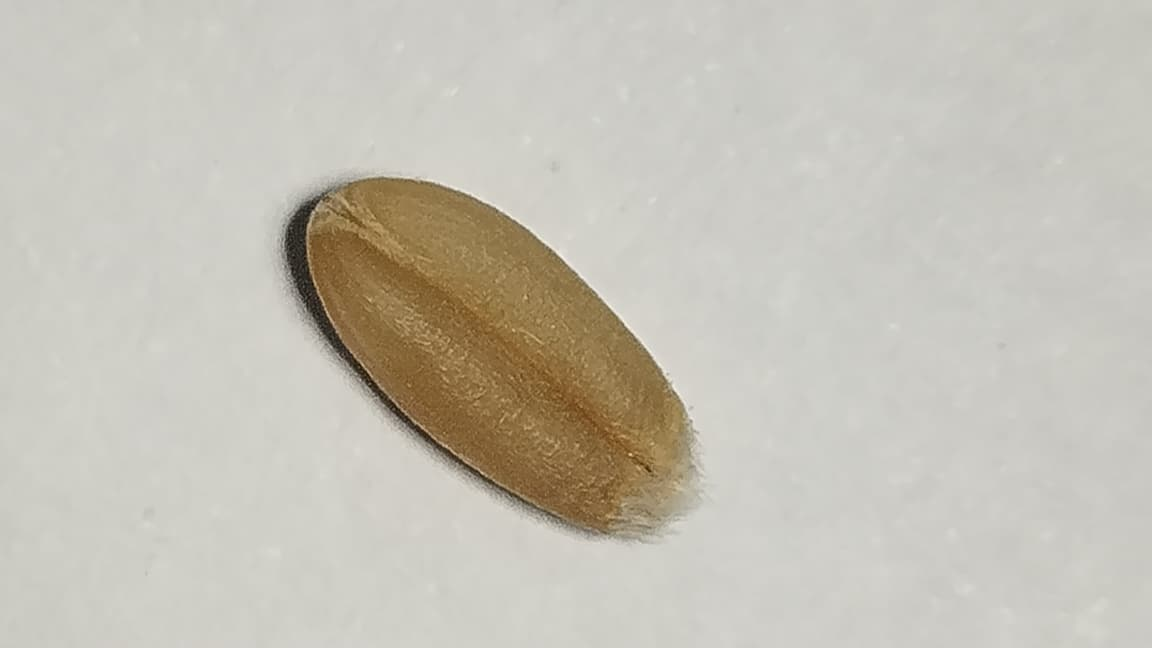healthy: (306, 177, 696, 532)
